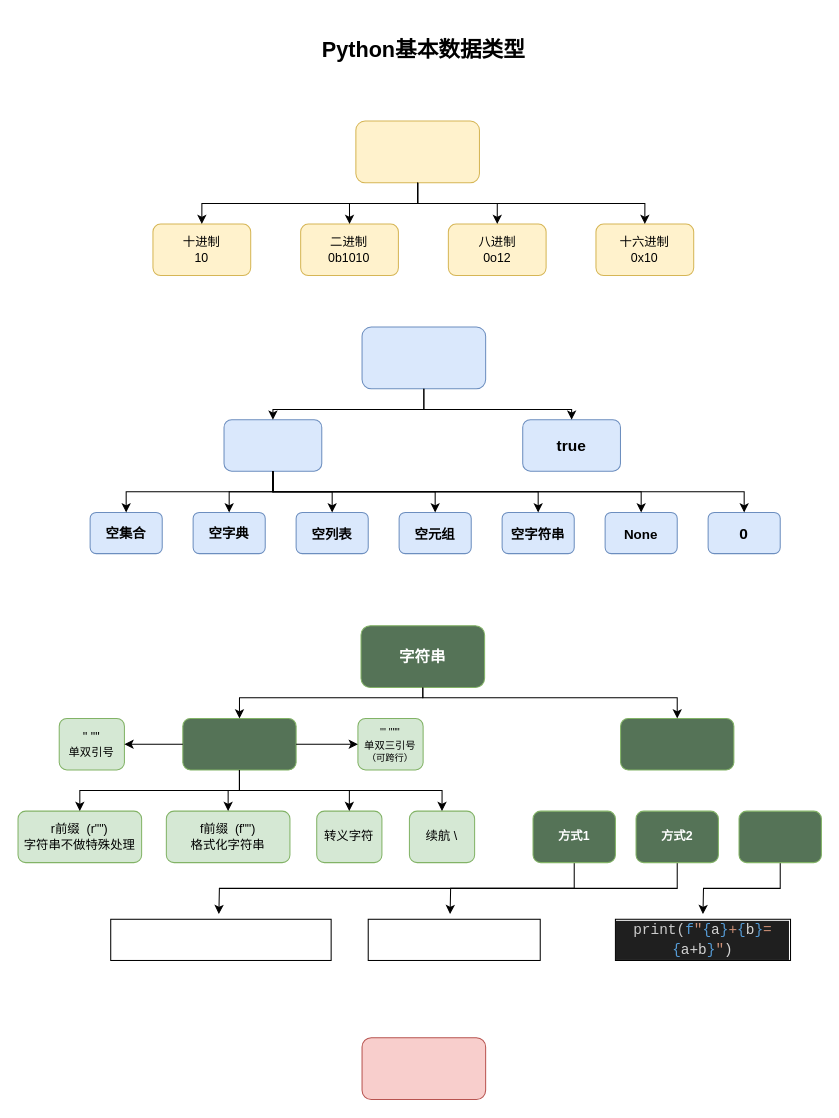
Image size: 839x1118. Some labels were removed from this diagram. Here are the shapes that lost their labels. From the top down, the centre of each, then its label:
pixel 417 151: 整数
pixel 423 357: 布尔值
pixel 272 445: false
pixel 239 743: 表现形式
pixel 677 743: 格式化
pixel 779 836: 方式3
pixel 220 939: print ( " {} , {} , {} , {} " .format(a,b, 100 ,a+b))
pixel 453 939: print ( f " { a } + { b } = { a+b } " )
pixel 423 1068: 浮点数
